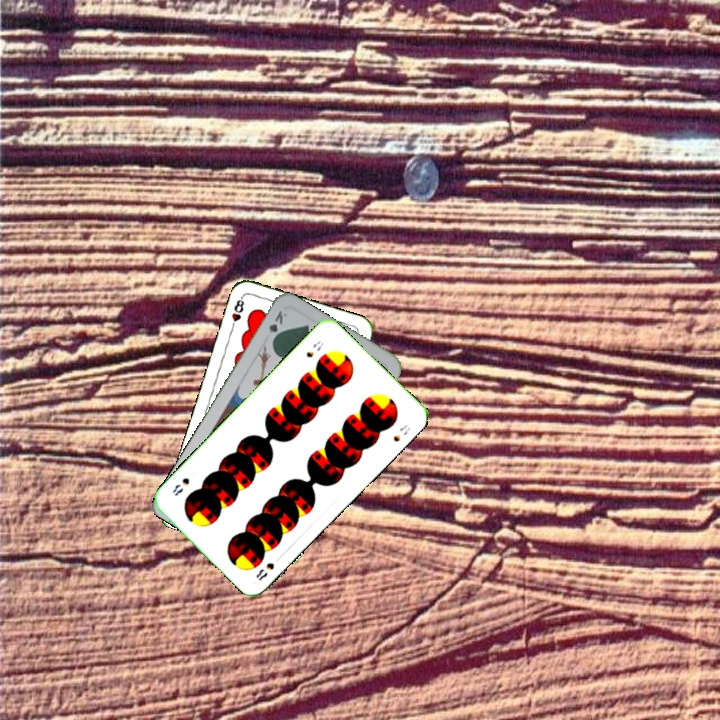GK: (265, 307, 289, 345)
H8: (227, 293, 247, 333)
S8: (252, 558, 277, 583), (302, 337, 326, 360)
